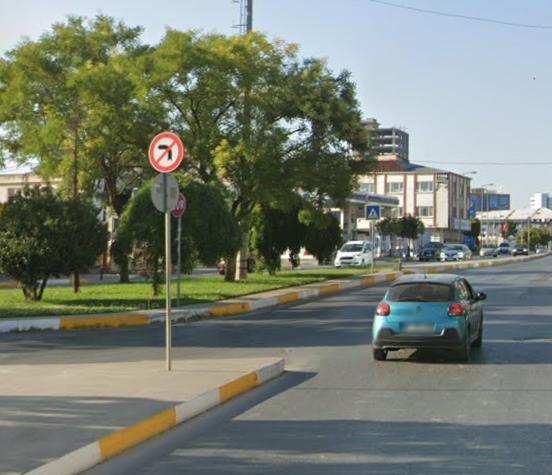leftturnsareforbidden: (149, 133, 185, 169)
